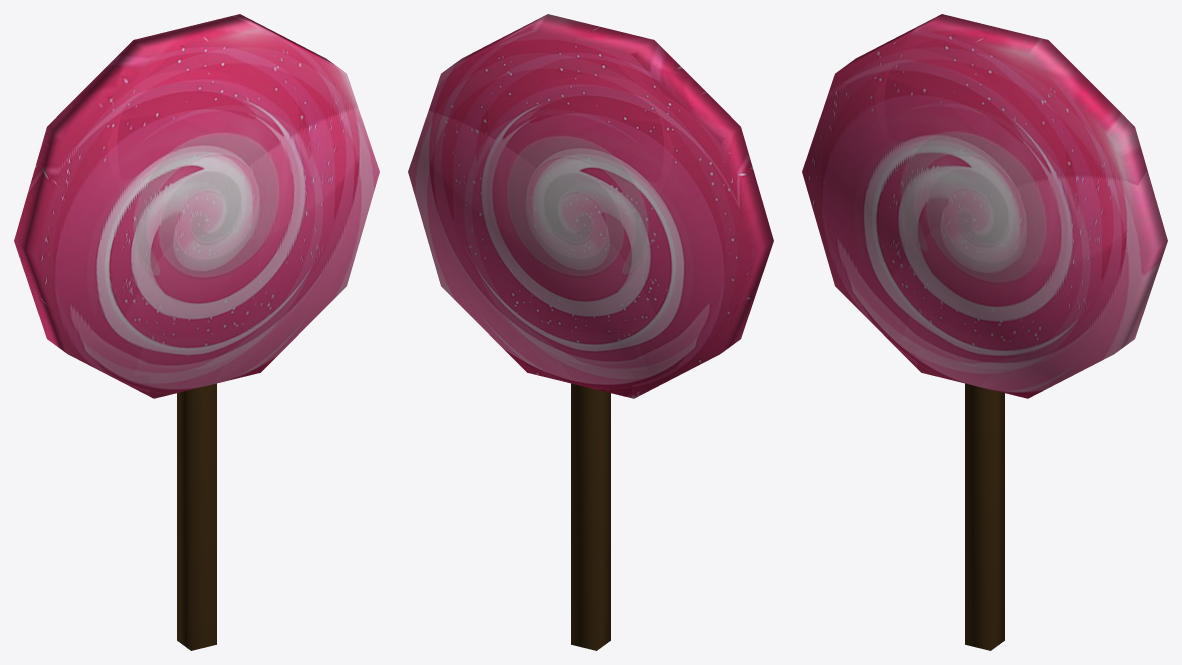
File: tree_10.fbx
3 renders of one model, left to right at view 1: azimuth 30°, elevation 25°; view 2: azimuth 150°, elevation 25°; view 3: azimuth 330°, elevation 25°, orthographic.
Visible parts, largest first — view 1: leaf_tree_10:Group2, tree_10:Group2; view 2: leaf_tree_10:Group2, tree_10:Group2; view 3: leaf_tree_10:Group2, tree_10:Group2.
Boxes of the visible parts, <box> form: leaf_tree_10:Group2: <box>14,14,379,398</box>; tree_10:Group2: <box>177,383,216,650</box>; leaf_tree_10:Group2: <box>408,14,773,398</box>; tree_10:Group2: <box>571,383,610,650</box>; leaf_tree_10:Group2: <box>802,14,1167,398</box>; tree_10:Group2: <box>965,383,1004,650</box>.
Bounding box in the file's own units: 6.99 × 11.77 × 0.7265.
